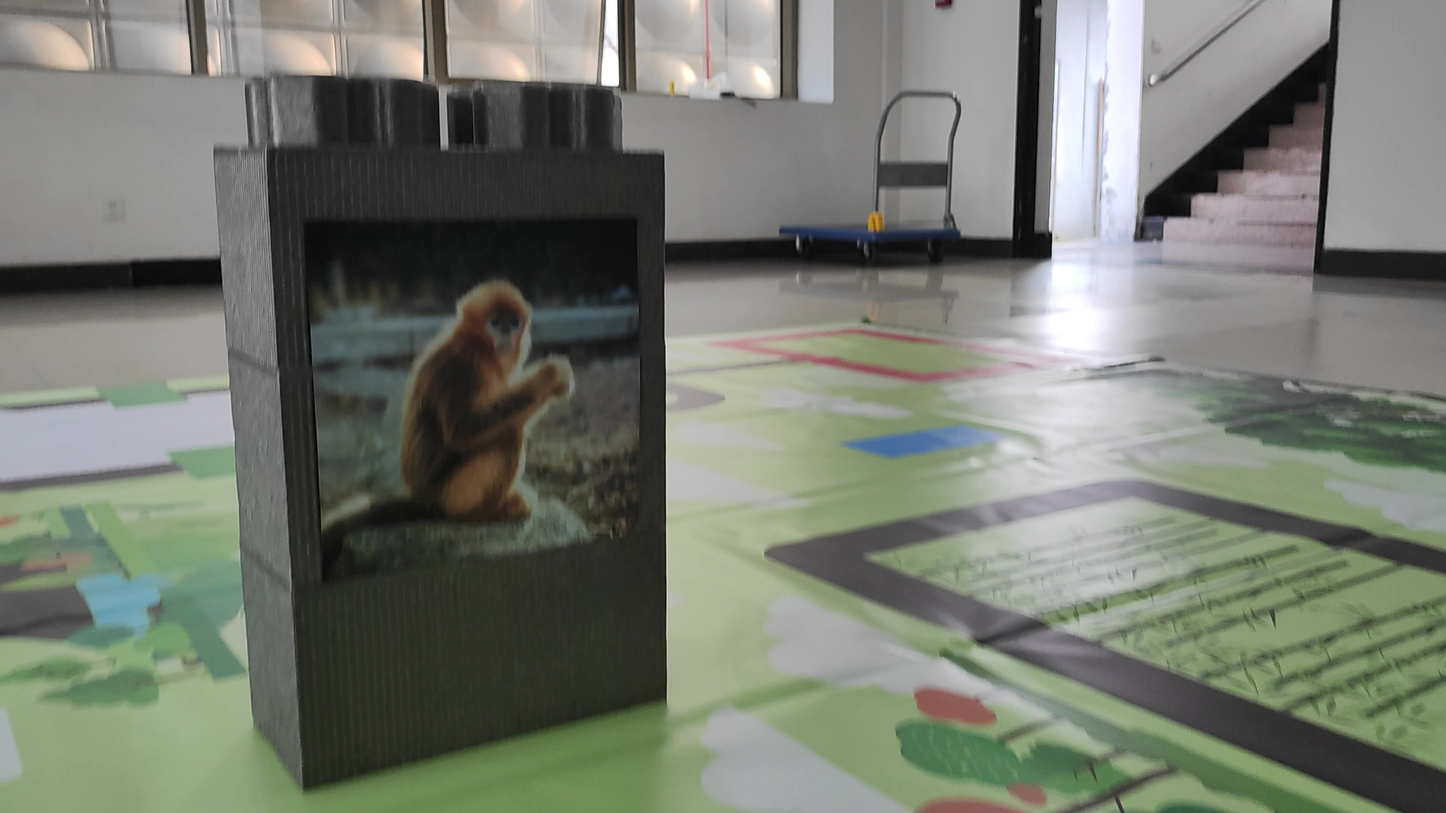monkey: (373, 256, 613, 525)
